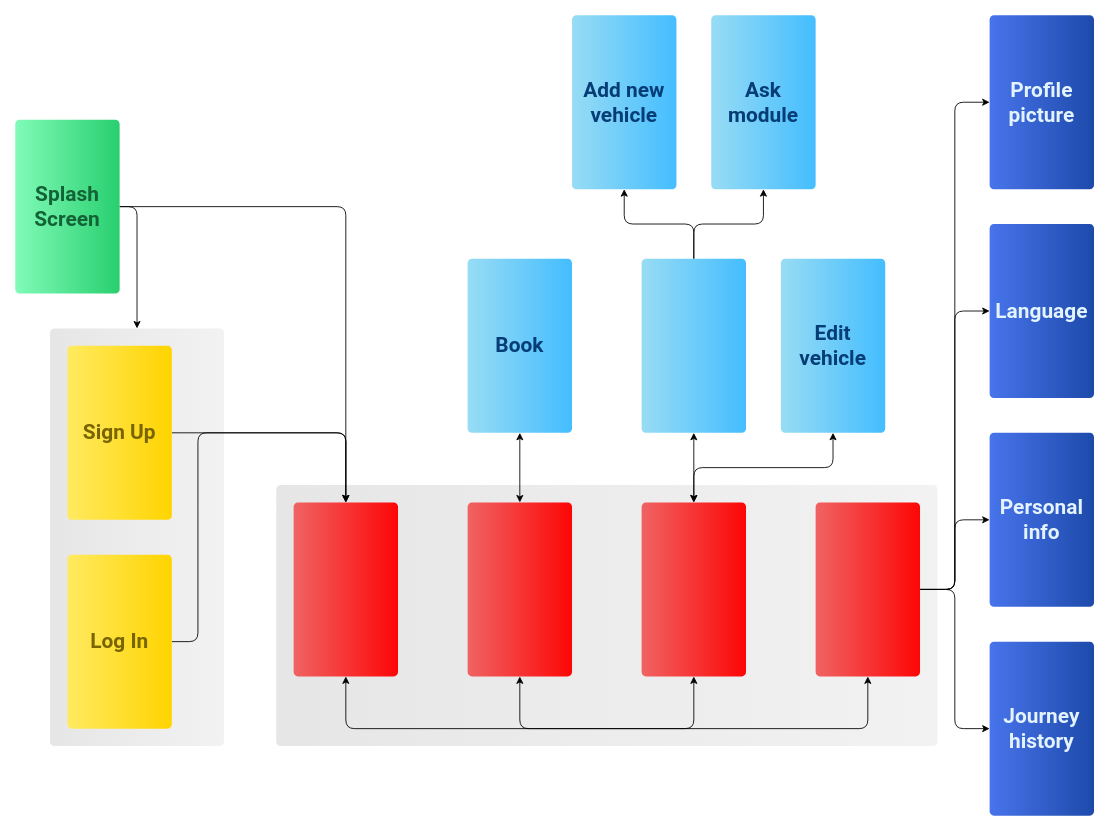
This 1108x830 diagram has some shape labels left out. Here are the shapes that lost their labels. From the top down, the centre of each, then its label:
pixel 693 345: Add new vehicle menu
pixel 345 589: Home
pixel 519 589: Search
pixel 693 589: My vehicles
pixel 867 589: Settings
